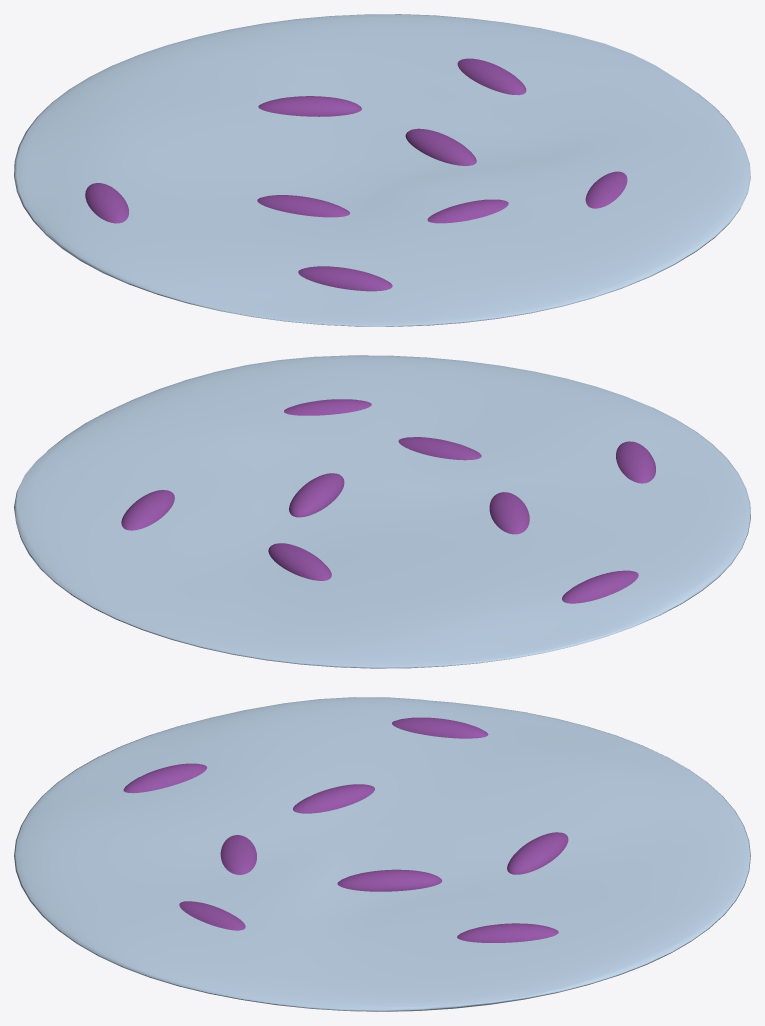
The model's file is rawpulut1.fbx.
3 views of the same model, one above another, from view 1: azimuth 30°, elevation 25°; view 2: azimuth 150°, elevation 25°; view 3: azimuth 270°, elevation 25° (orthographic).
Visible parts, largest first — view 1: Sphere.066, Sphere.072; view 2: Sphere.066, Sphere.072; view 3: Sphere.066, Sphere.072.
Boxes of the visible parts, x1,y1,x2,y2 form: Sphere.066: (14,14,750,326); Sphere.072: (85,58,627,291); Sphere.066: (14,355,750,668); Sphere.072: (121,399,655,603); Sphere.066: (14,697,750,1011); Sphere.072: (123,717,568,942).
Bounding box in the file's own units: 193 × 7.19 × 193.
